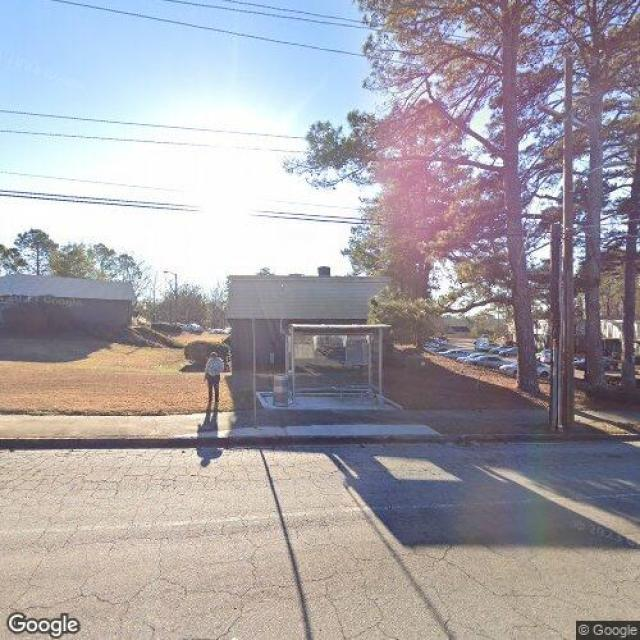seating: (330, 384, 371, 402)
shelter: (284, 324, 392, 406)
trash_can: (272, 373, 290, 408)
